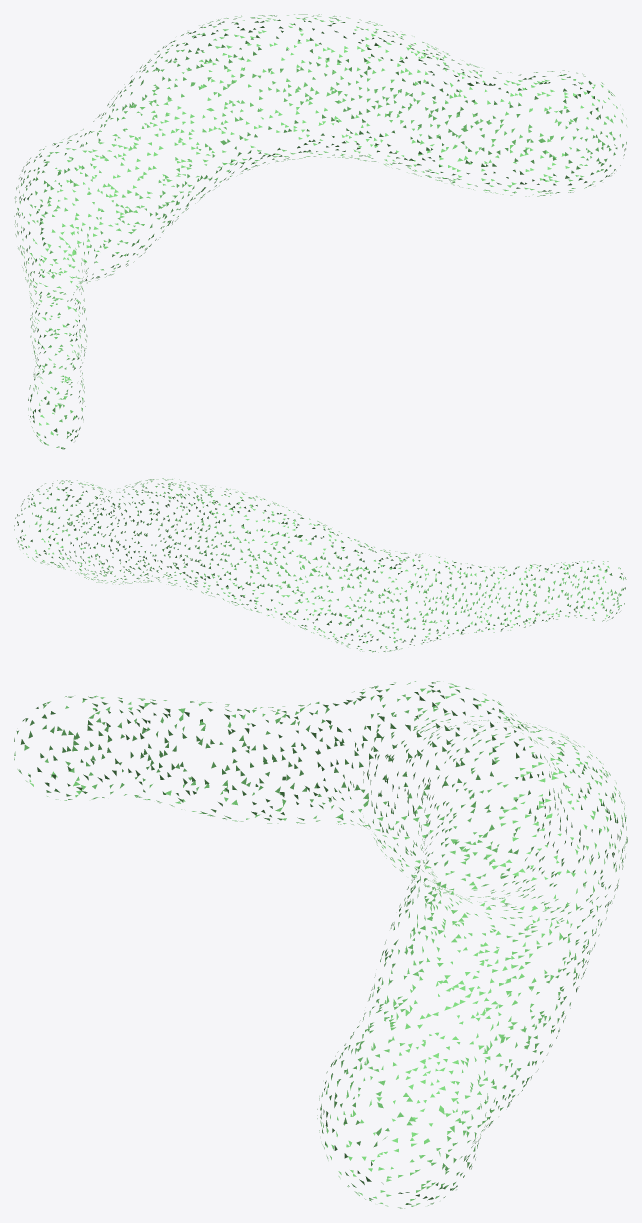
Rendered from morph_017.glb.
3 renders of one model, top to bottom at view 1: azimuth 30°, elevation 25°; view 2: azimuth 150°, elevation 25°; view 3: azimuth 270°, elevation 25°, orthographic. The views are drawn at different scales.
Bounding box in the file's own units: 122 × 35 × 68.51.
